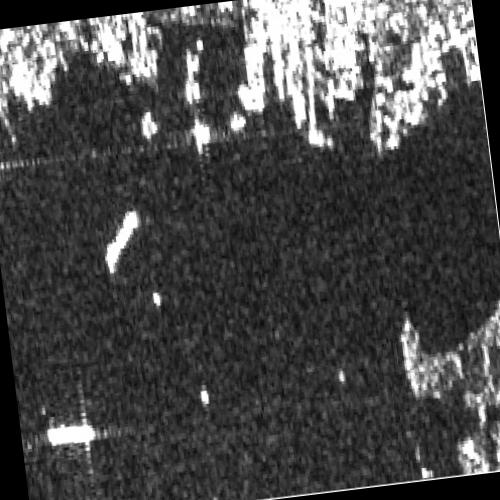ship: (104, 209, 142, 274), (45, 422, 98, 449)
